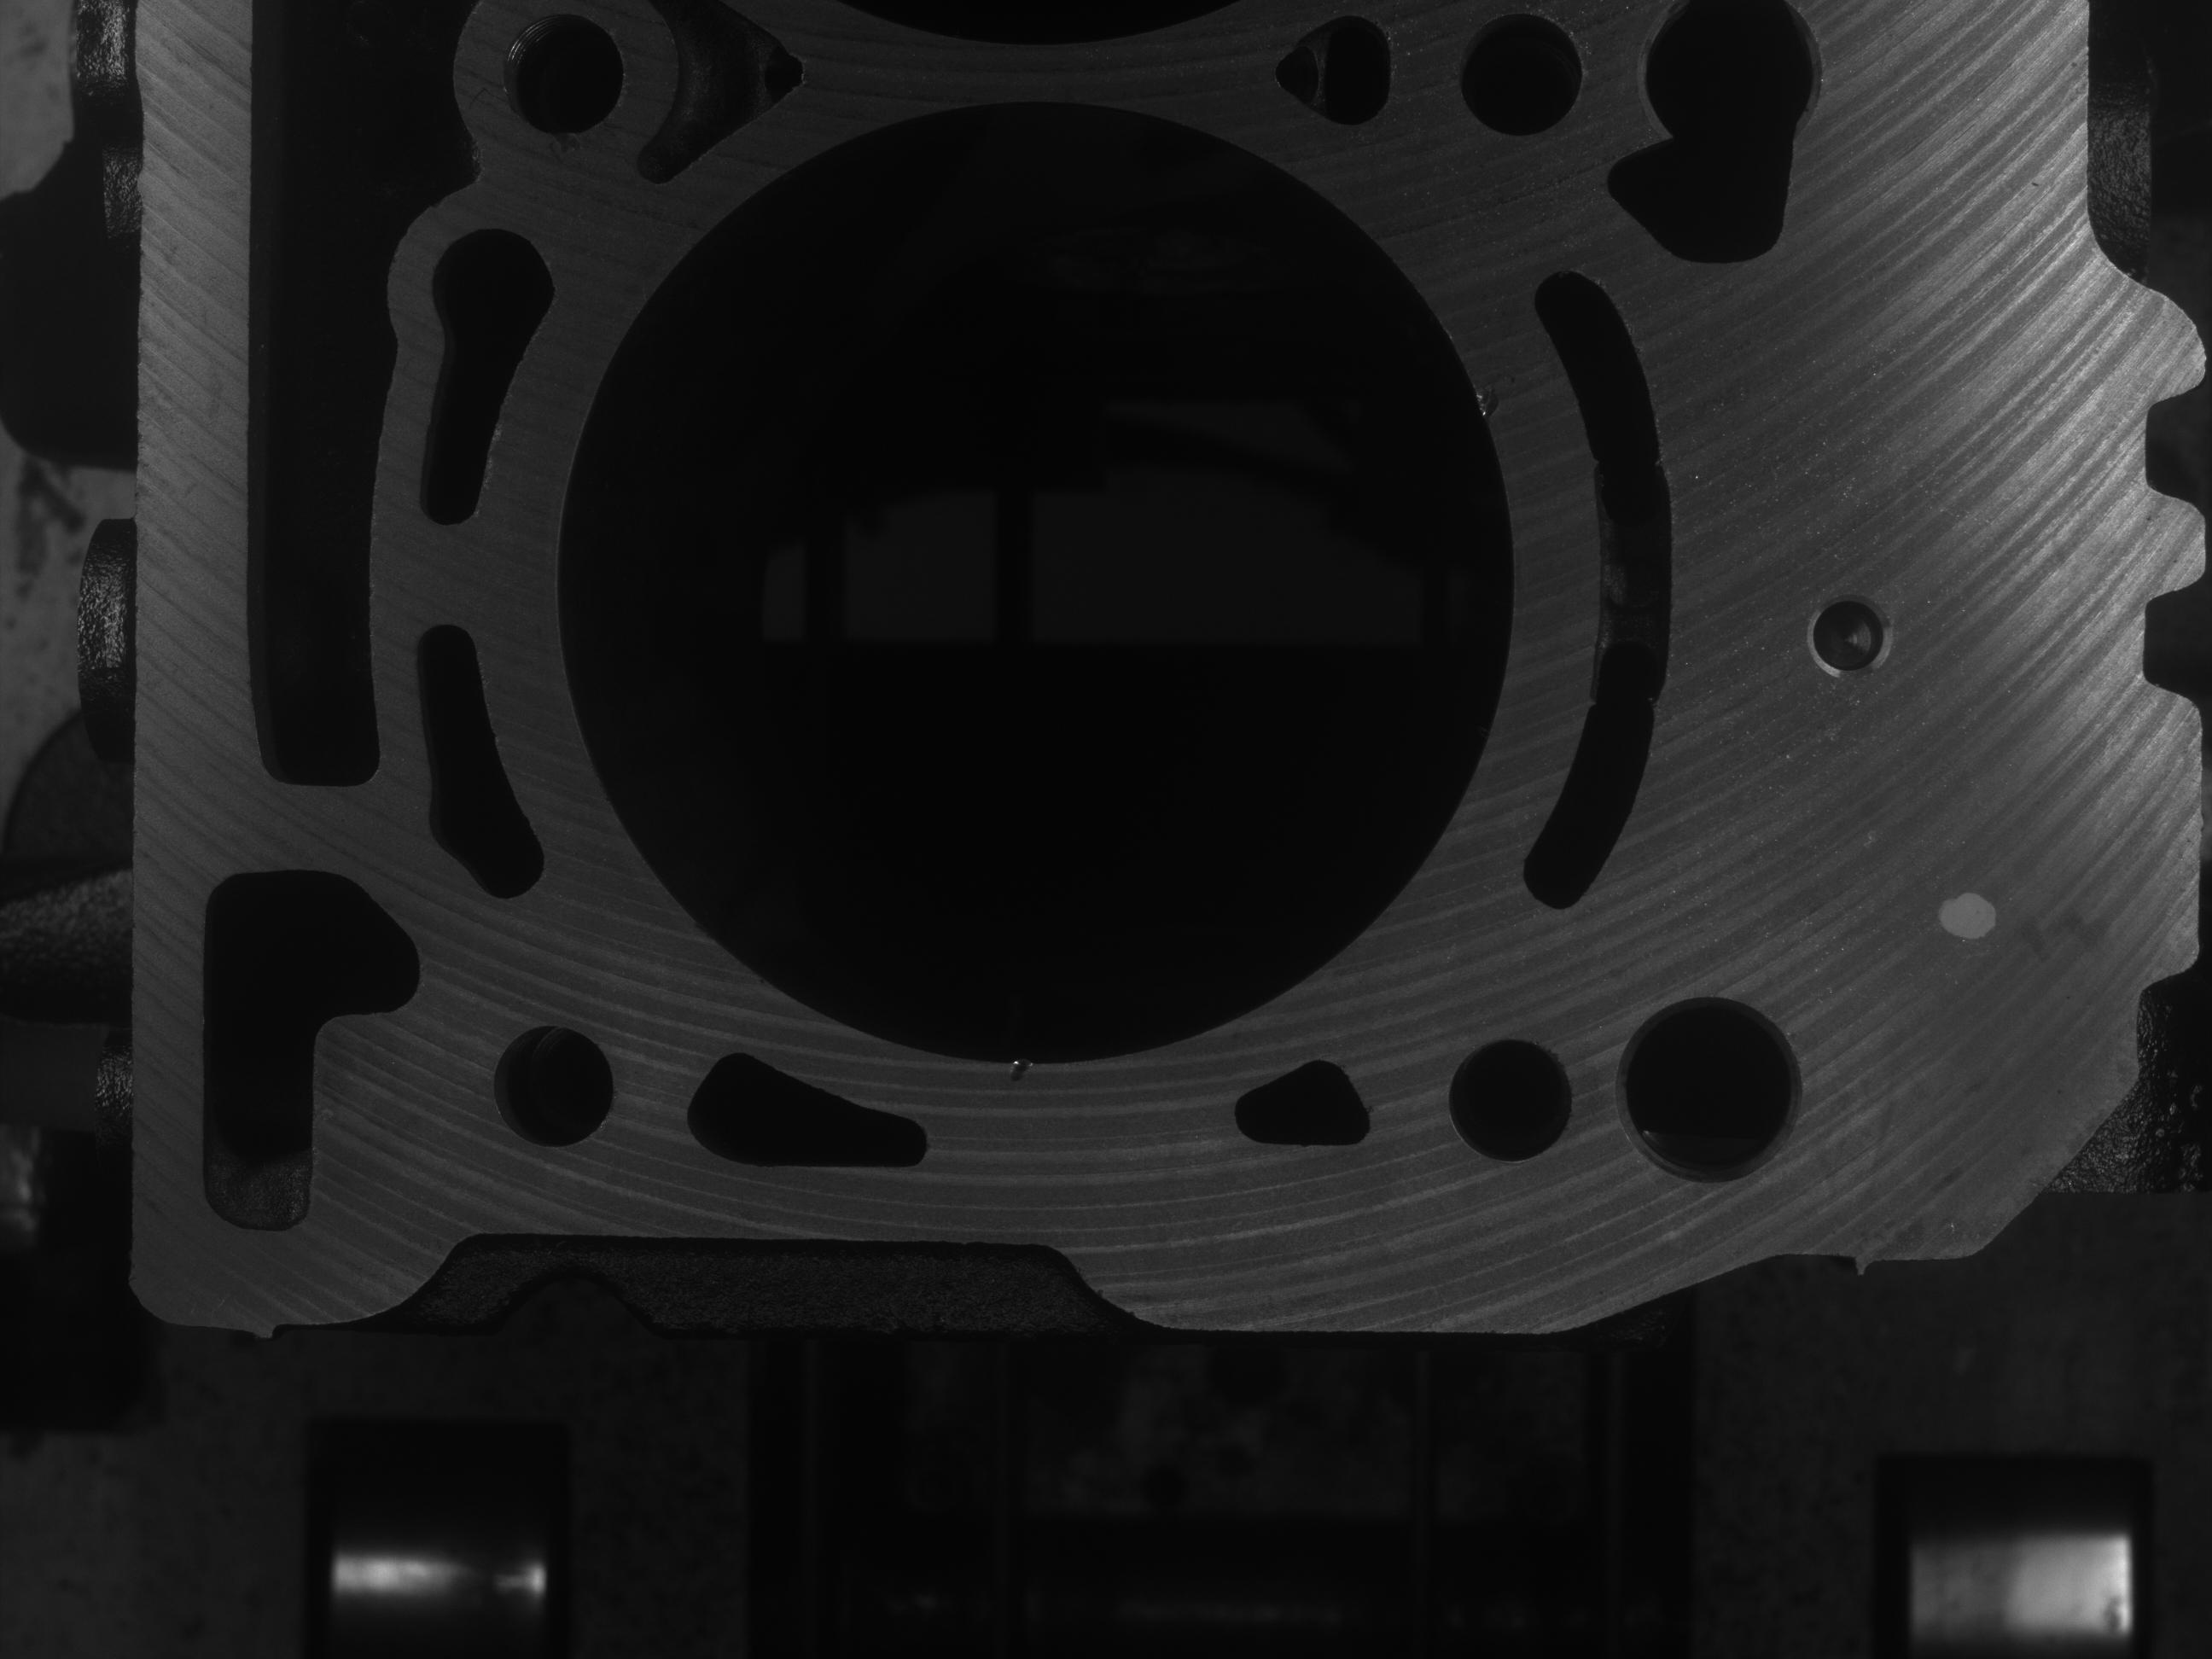dirty: (1926, 882, 2006, 957)
shrinkage: (1472, 380, 1503, 423)
